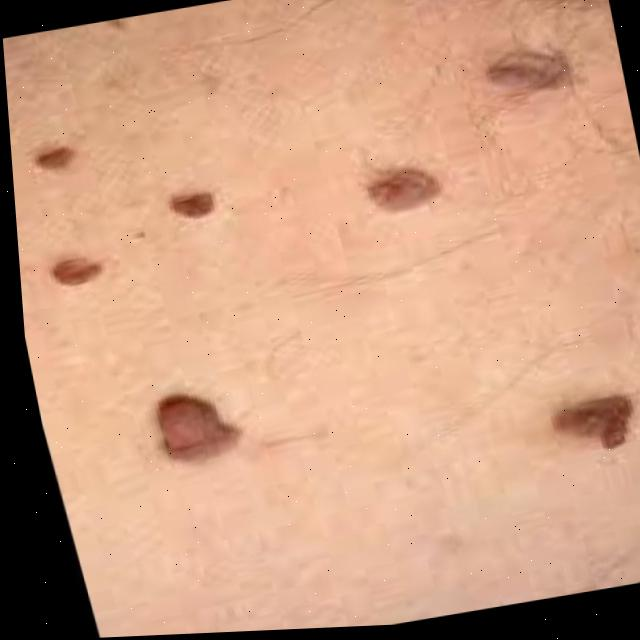Eczema: (31, 21, 640, 563)
